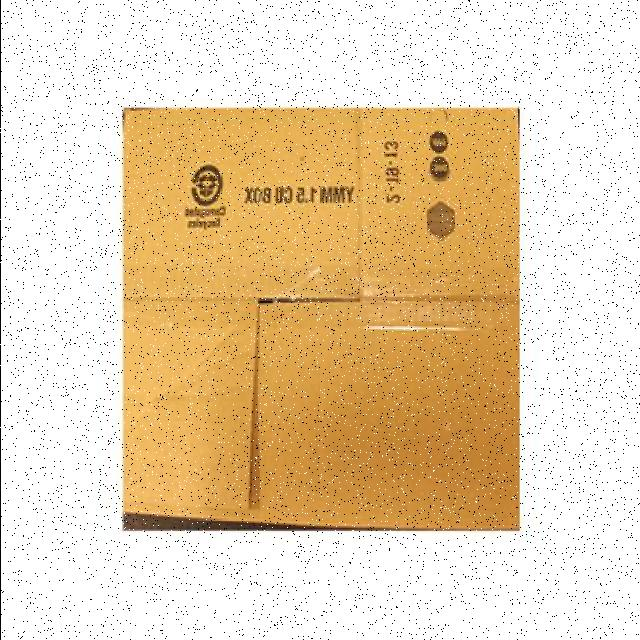normal: (110, 95, 528, 537)
